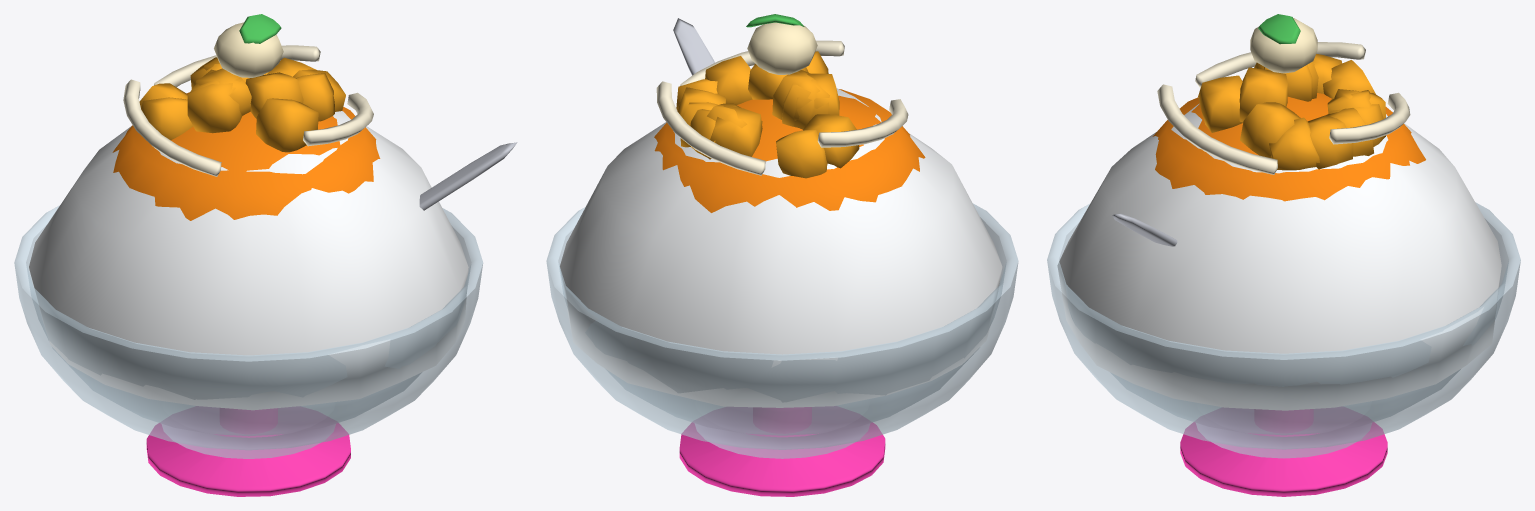
3 renders of one model, left to right at view 1: azimuth 30°, elevation 25°; view 2: azimuth 150°, elevation 25°; view 3: azimuth 270°, elevation 25°, orthographic.
Parts seen in each view (by area): view 1: shaved_ice, bowl_outer, bowl_inner, syrup, mango, foot, bowl_rim, milk_drizzle, panna_cotta, spoon, mint; view 2: shaved_ice, bowl_outer, bowl_inner, mango, syrup, foot, bowl_rim, milk_drizzle, panna_cotta, spoon; view 3: shaved_ice, bowl_outer, bowl_inner, mango, foot, syrup, milk_drizzle, bowl_rim, panna_cotta, mint, spoon.
Boxes of the visible parts, <box> form: shaved_ice: <box>29,111,468,410</box>; bowl_outer: <box>14,206,482,458</box>; bowl_inner: <box>26,225,471,435</box>; syrup: <box>112,92,380,220</box>; mango: <box>139,57,345,152</box>; foot: <box>146,408,350,496</box>; bowl_rim: <box>14,205,482,361</box>; milk_drizzle: <box>123,45,373,176</box>; panna_cotta: <box>214,22,283,77</box>; spoon: <box>419,142,517,210</box>; mint: <box>239,14,281,43</box>; shaved_ice: <box>560,88,1002,407</box>; bowl_outer: <box>546,204,1018,458</box>; bowl_inner: <box>558,217,1006,435</box>; mango: <box>676,51,859,178</box>; syrup: <box>654,89,925,212</box>; foot: <box>679,407,885,496</box>; bowl_rim: <box>546,204,1018,360</box>; milk_drizzle: <box>656,40,908,175</box>; panna_cotta: <box>747,22,817,74</box>; spoon: <box>673,18,714,75</box>; shaved_ice: <box>1057,103,1501,410</box>; bowl_outer: <box>1047,203,1520,458</box>; bowl_inner: <box>1059,219,1508,434</box>; mango: <box>1198,54,1386,170</box>; foot: <box>1180,409,1387,496</box>; syrup: <box>1152,93,1425,201</box>; milk_drizzle: <box>1157,42,1410,174</box>; bowl_rim: <box>1047,203,1520,359</box>; panna_cotta: <box>1250,18,1317,73</box>; mint: <box>1258,14,1300,44</box>; spoon: <box>1112,213,1177,246</box>.
Bounding box in the file's own units: 0.16 × 0.1637 × 0.16.
